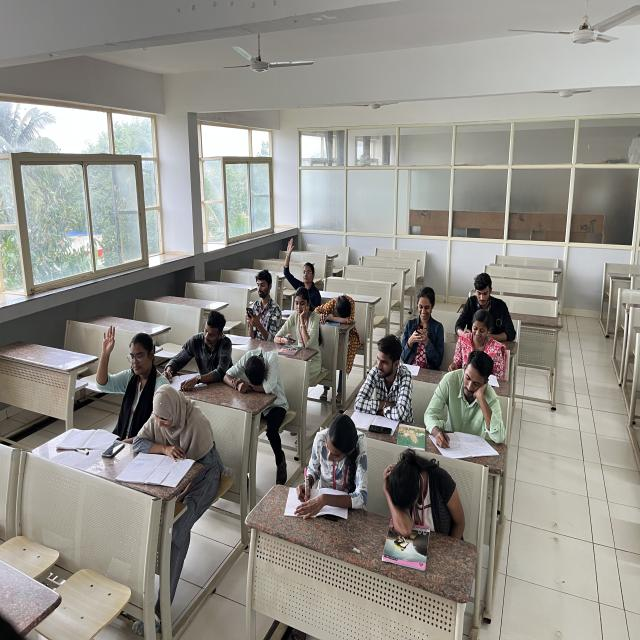Hand Rising: (94, 325, 161, 404), (282, 237, 325, 299)
Reading: (125, 385, 208, 491), (456, 312, 506, 388)
Sleeping: (382, 456, 460, 528), (223, 345, 289, 408), (321, 289, 360, 328)
Using Phone: (403, 288, 452, 366), (272, 289, 320, 346), (244, 269, 281, 342)
Writing: (426, 351, 500, 459), (287, 414, 363, 511), (159, 309, 231, 390)
